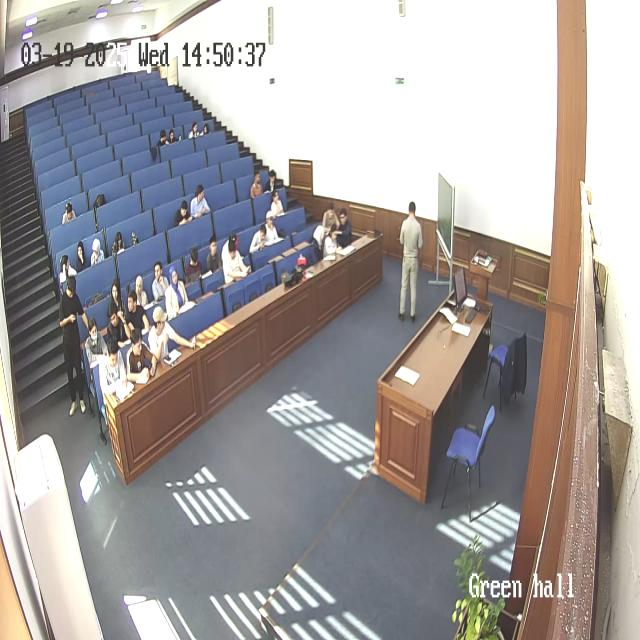person: (58, 278, 88, 412), (398, 199, 423, 321), (147, 306, 197, 362), (98, 341, 130, 408), (125, 332, 157, 383), (165, 268, 195, 318), (122, 288, 150, 340), (222, 235, 252, 282), (83, 317, 110, 367), (104, 306, 130, 348), (151, 261, 171, 303), (59, 253, 78, 295), (334, 208, 354, 247), (108, 282, 126, 325), (185, 246, 205, 284), (308, 223, 328, 260), (248, 220, 270, 253), (190, 184, 210, 219), (322, 223, 341, 259), (206, 234, 223, 274), (132, 274, 150, 309), (264, 212, 282, 244), (320, 199, 339, 228), (268, 188, 286, 218), (75, 241, 91, 273), (174, 200, 192, 228), (90, 238, 106, 267), (250, 170, 264, 200), (264, 169, 278, 197), (112, 231, 126, 257), (62, 201, 76, 225), (158, 127, 170, 151), (92, 192, 108, 210), (188, 122, 200, 140), (168, 128, 180, 143), (202, 118, 210, 138)
